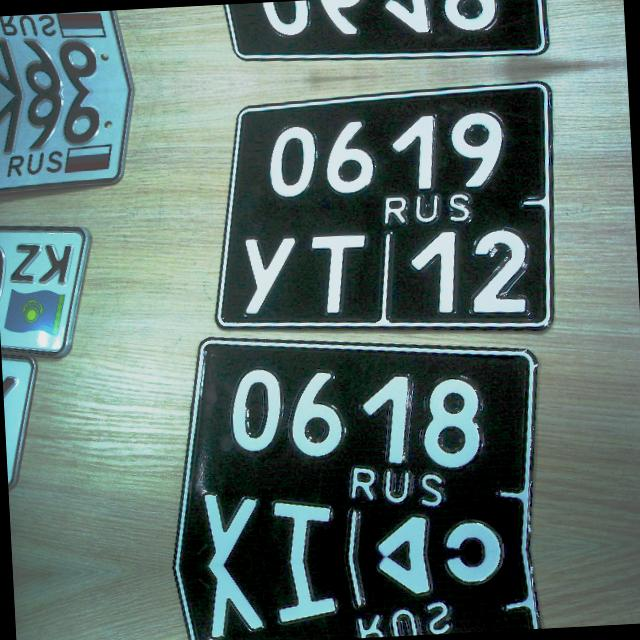military: (191, 79, 568, 354), (154, 318, 552, 568), (165, 548, 555, 640), (186, 0, 553, 74)
